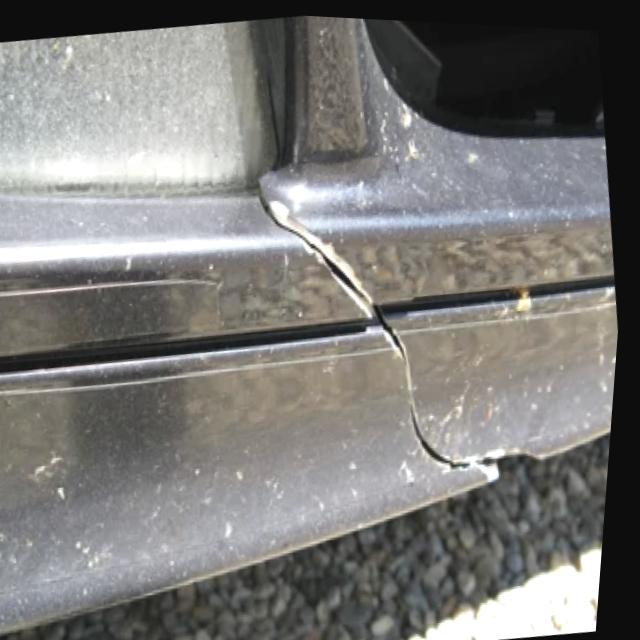Crack: (253, 188, 543, 485)
